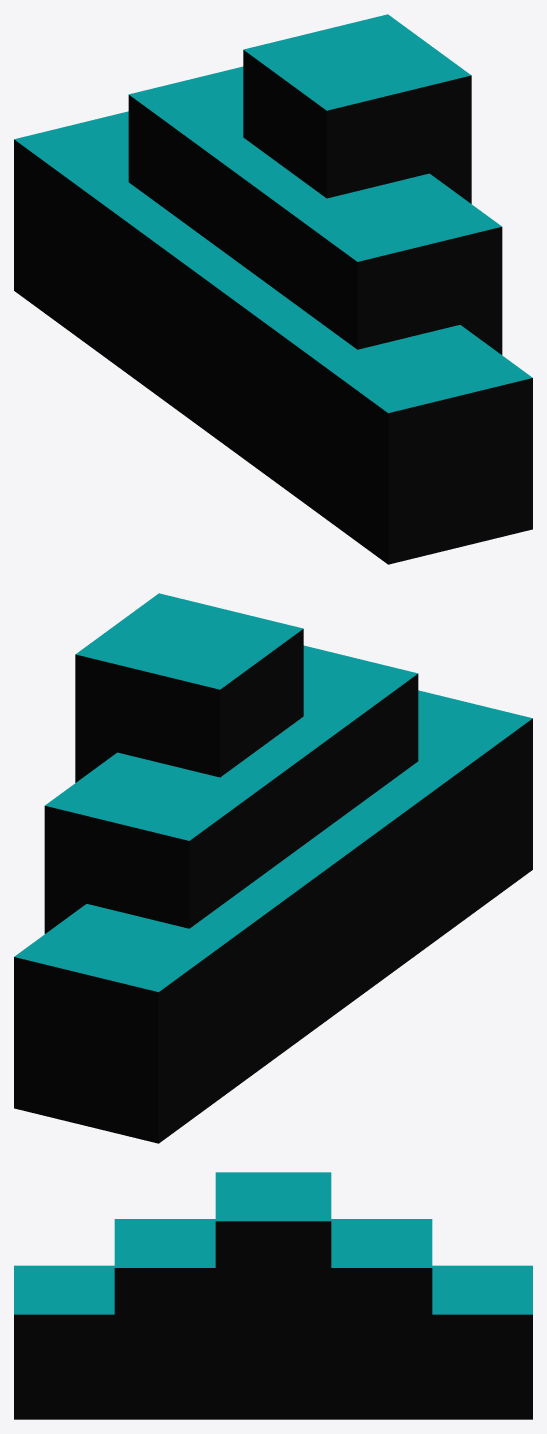
File: br-float-a1-1.fbx
3 renders of one model, top to bottom at view 1: azimuth 30°, elevation 25°; view 2: azimuth 150°, elevation 25°; view 3: azimuth 270°, elevation 25°, orthographic. The views are drawn at different scales.
Parts seen in each view (by area): view 1: pCube181, pCube180, pCube179; view 2: pCube181, pCube180, pCube179; view 3: pCube181, pCube180, pCube179.
Boxes of the visible parts, bbox=[...] form: pCube181: bbox=[14, 111, 532, 564]; pCube180: bbox=[128, 66, 502, 354]; pCube179: bbox=[243, 14, 471, 203]; pCube181: bbox=[14, 690, 532, 1143]; pCube180: bbox=[44, 645, 418, 933]; pCube179: bbox=[75, 593, 303, 782]; pCube181: bbox=[14, 1265, 532, 1419]; pCube180: bbox=[114, 1219, 432, 1372]; pCube179: bbox=[215, 1172, 331, 1326].
Size of the model in its own units: 10.9 by 14.9 by 30.9.
